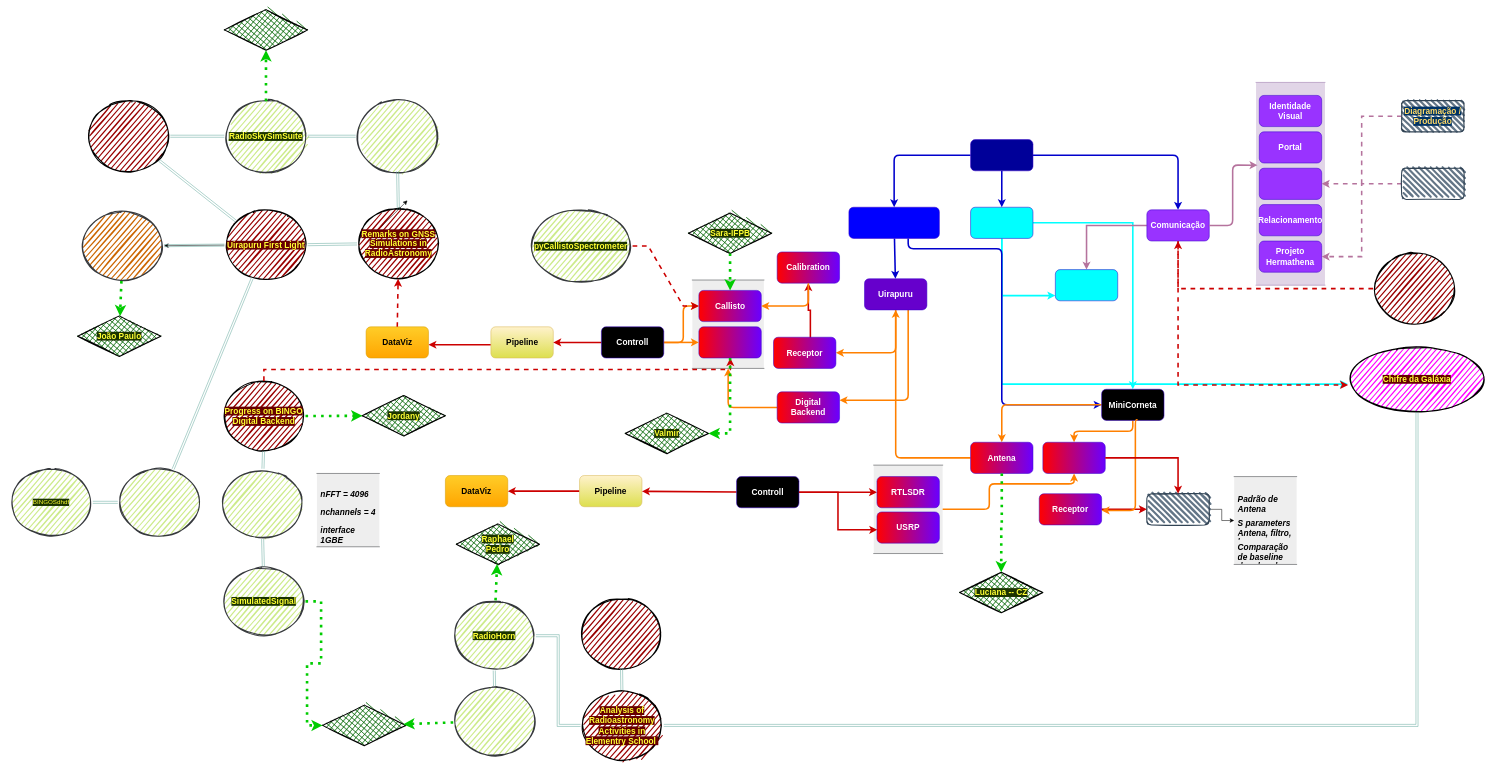
This 1496x770 diagram has some shape labels left out. Each missing label, with the box of its shape:
BINGO PB: (970, 139, 1033, 171)
BINGOSpectrometer: (220, 468, 304, 539)
Desafios Éticos da Radioastronomia na Paraíba: (1372, 253, 1457, 324)
Divulgação Científica: (970, 207, 1033, 238)
Escrever Projeto: (1401, 167, 1464, 200)
GNSS4Astro: (355, 100, 439, 172)
Instrumentação Radioastronômica: (848, 207, 939, 238)
Observing Neutral Hydrogen with Low Cost Radio Telescope: (579, 598, 663, 669)
Press Release: (1259, 168, 1322, 199)
PROBEX: (1055, 269, 1118, 301)
Procedimento: (1146, 493, 1210, 525)
RadioSkySimsSuite: (86, 100, 171, 172)
Receptor/Digital Backend: (1042, 442, 1105, 473)
Skarab: (698, 326, 761, 358)
SpectraBox: (452, 685, 537, 757)
Tales: (322, 704, 406, 746)
UirapuruSensor: (80, 210, 164, 281)
UirapuruTelescope: (117, 466, 201, 538)
Vanderson: (224, 9, 308, 50)
